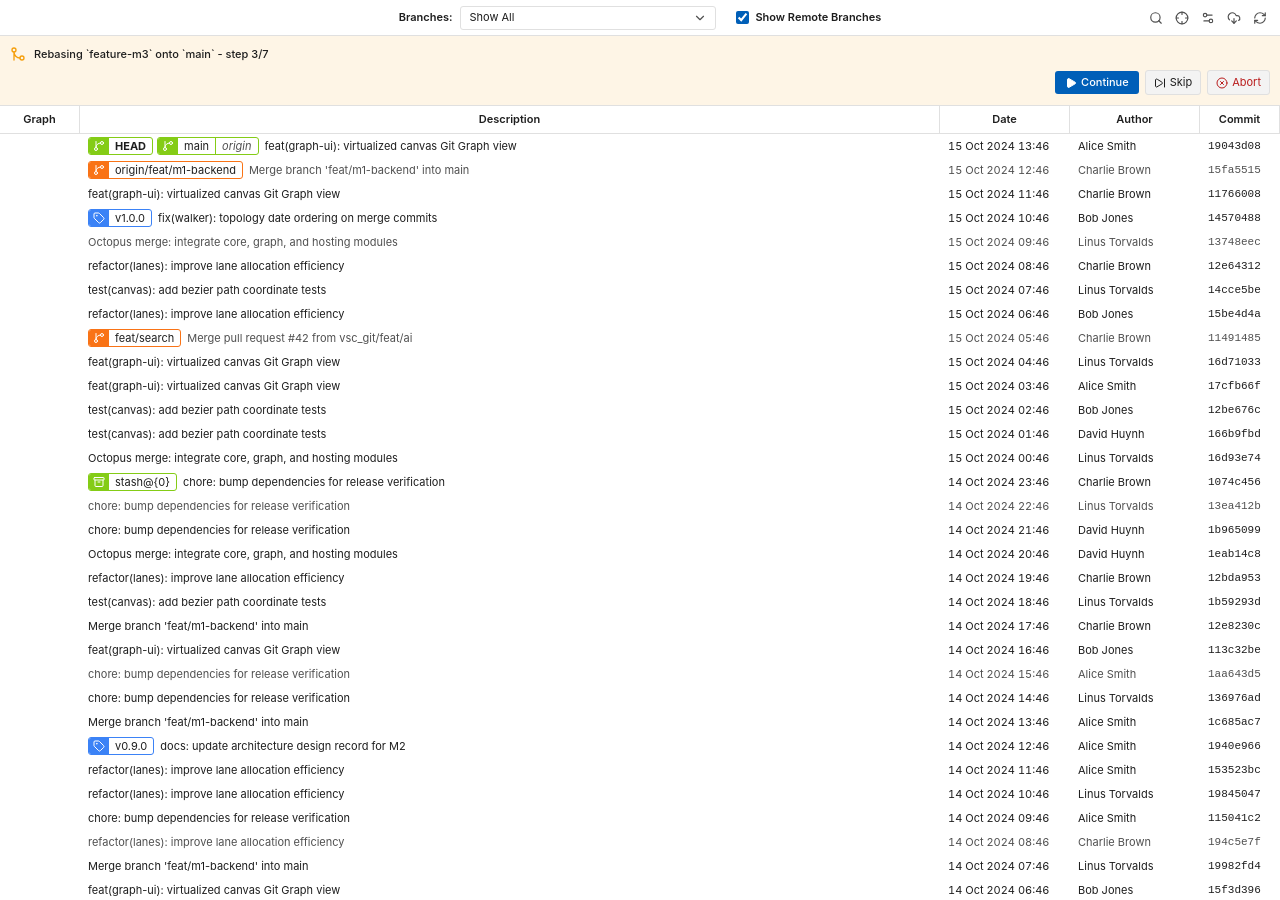
GraphView component › enters compare mode on Cmd/Ctrl+click on a second commit
Click the text "feat(graph-ui): virtualized canvas Git Graph view" in the row of "HEAD": (391, 146) [264,138,517,154]
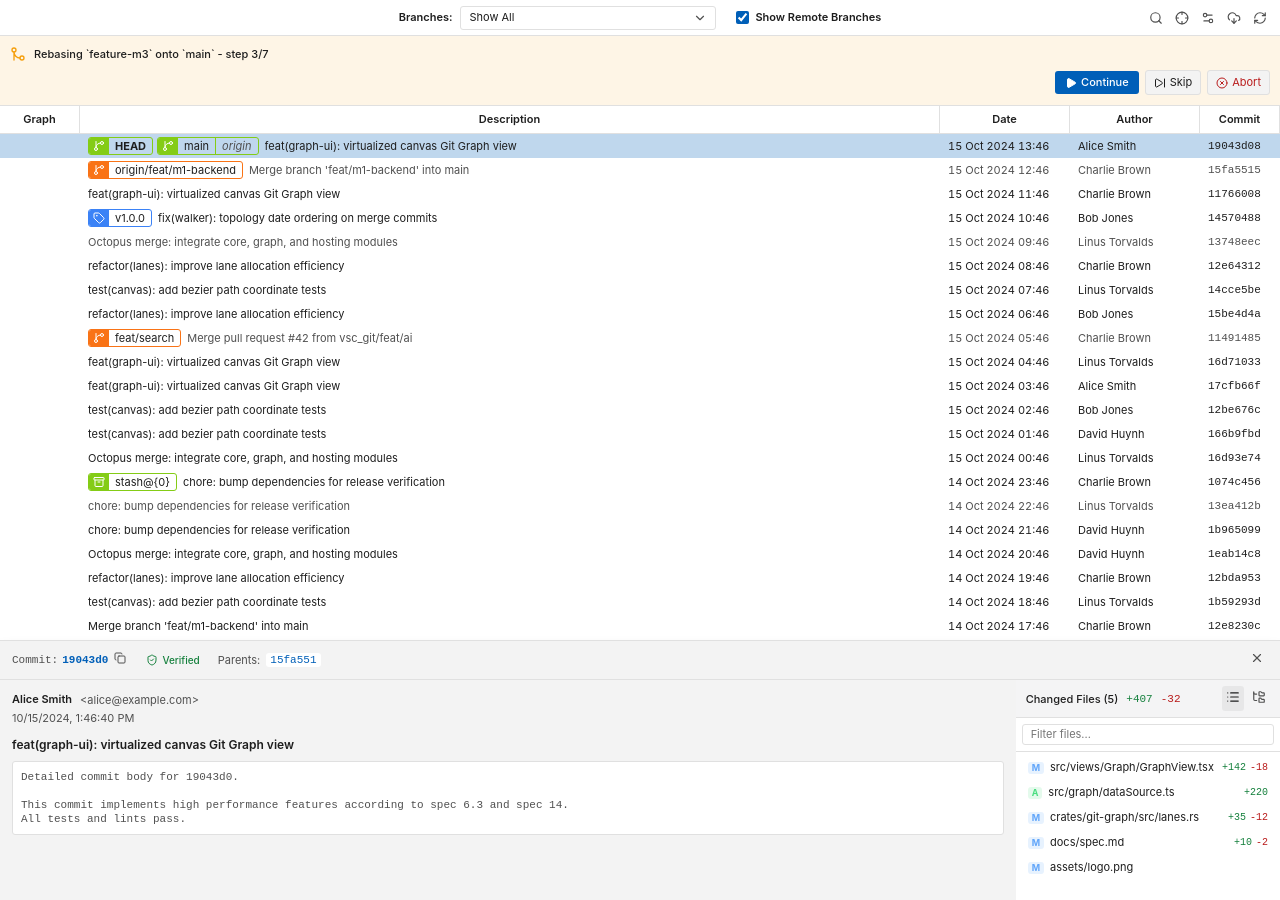
Expected: the text "Changed Files (5)" is shown, [1026,692,1118,706]
Cmd+click second commit
Click the text "Merge branch 'feat/m1-backend' into main" next to "origin/feat/m1-backend": (359, 170) [249,162,469,178]
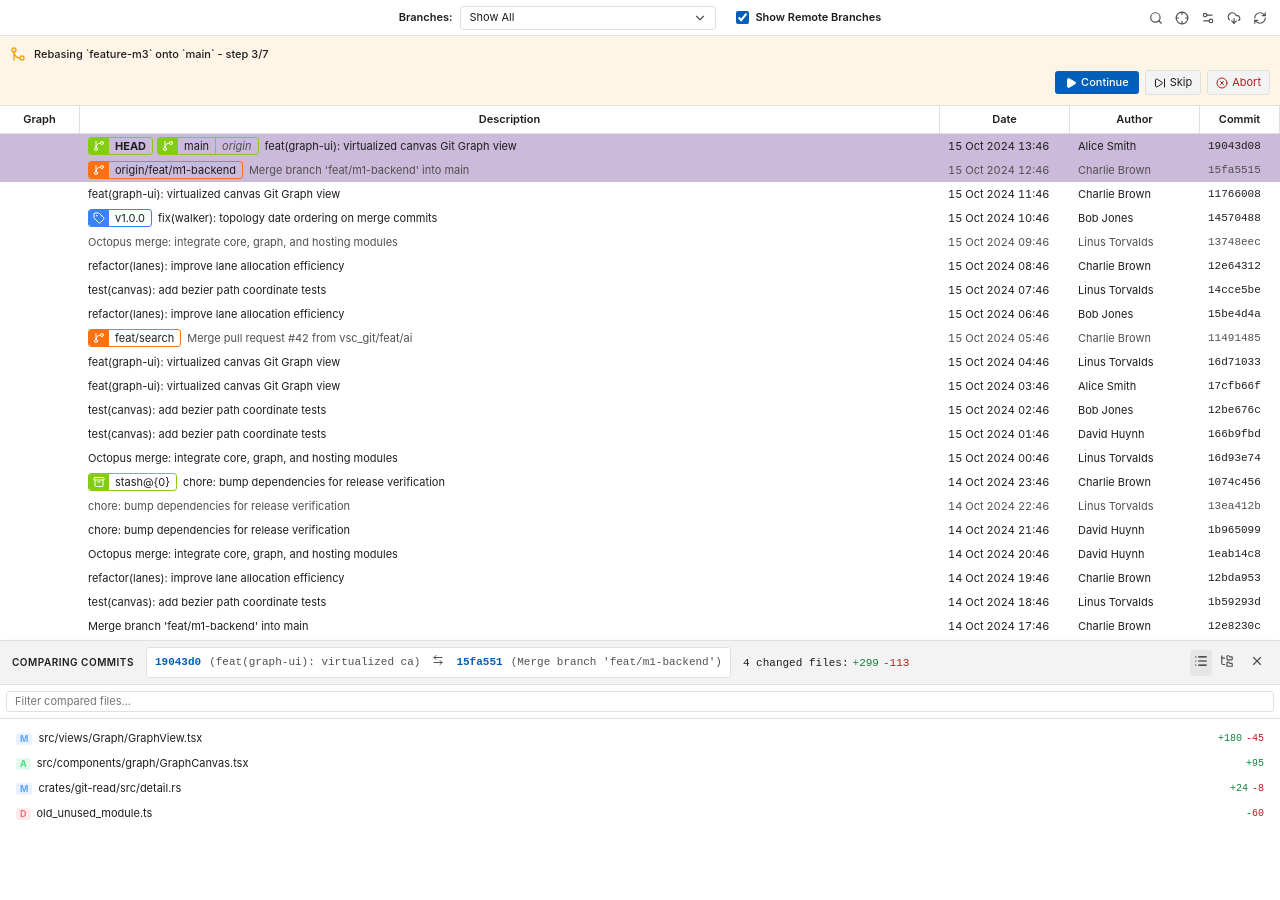
Expected: the text "Comparing Commits" is shown, [12,656,134,669]
